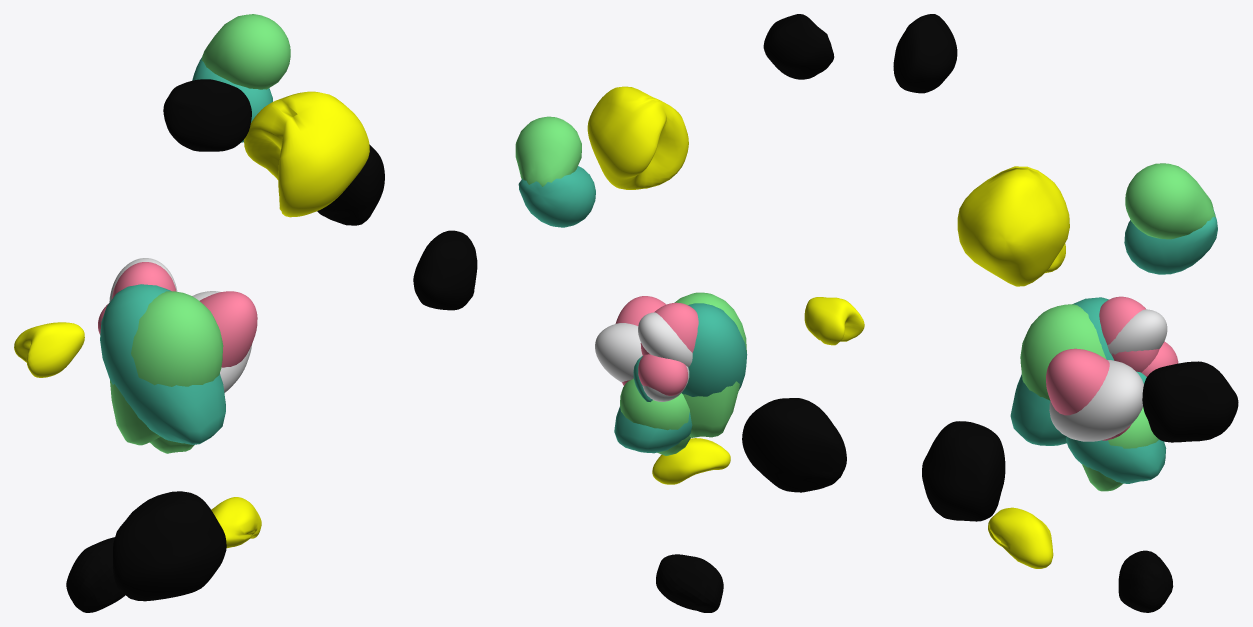
File: asset.glb
3 renders of one model, left to right at view 1: azimuth 30°, elevation 25°; view 2: azimuth 150°, elevation 25°; view 3: azimuth 270°, elevation 25°, orthographic. The views are drawn at different scales.
Parts seen in each view (by area): view 1: Sphere.011, Sphere.013, Sphere.007, Sphere.008, Sphere.016, Sphere.010, Sphere.015, Sphere.012, Sphere.004, Sphere.014, Sphere.002, Sphere.020 (+2 smaller); view 2: Sphere.011, Sphere.013, Sphere.007, Sphere.014, Sphere.010, Sphere.016, Sphere.009, Sphere.015, Sphere.008, Sphere.006, Sphere.002, Sphere.012 (+6 smaller); view 3: Sphere.011, Sphere.013, Sphere.014, Sphere.010, Sphere.003, Sphere.008, Sphere.016, Sphere.004, Sphere.009, Sphere.005, Sphere.007, Sphere.002 (+5 smaller).
Part boxes in pixels (<box>): Sphere.011: <box>244,91,369,217</box>; Sphere.013: <box>113,491,226,601</box>; Sphere.007: <box>100,284,225,444</box>; Sphere.008: <box>110,291,223,445</box>; Sphere.016: <box>163,79,251,151</box>; Sphere.010: <box>201,14,290,89</box>; Sphere.015: <box>66,537,125,612</box>; Sphere.012: <box>14,322,84,377</box>; Sphere.004: <box>199,291,257,367</box>; Sphere.014: <box>317,144,384,225</box>; Sphere.002: <box>211,497,261,548</box>; Sphere.020: <box>112,262,176,298</box>; Sphere.011: <box>587,86,688,189</box>; Sphere.013: <box>742,398,846,492</box>; Sphere.007: <box>682,303,747,396</box>; Sphere.014: <box>413,230,477,310</box>; Sphere.010: <box>515,116,581,186</box>; Sphere.016: <box>763,14,834,79</box>; Sphere.009: <box>518,166,595,227</box>; Sphere.015: <box>656,554,723,612</box>; Sphere.008: <box>674,292,746,437</box>; Sphere.006: <box>620,378,690,455</box>; Sphere.002: <box>652,438,730,484</box>; Sphere.012: <box>804,297,864,345</box>; Sphere.011: <box>957,166,1069,286</box>; Sphere.013: <box>922,421,1005,521</box>; Sphere.014: <box>1142,361,1238,442</box>; Sphere.010: <box>1125,163,1215,239</box>; Sphere.003: <box>1049,360,1143,441</box>; Sphere.008: <box>1020,304,1106,400</box>; Sphere.016: <box>893,14,957,93</box>; Sphere.004: <box>1046,348,1131,440</box>; Sphere.009: <box>1124,208,1217,274</box>; Sphere.005: <box>1066,436,1166,483</box>; Sphere.007: <box>1010,297,1113,445</box>; Sphere.002: <box>988,507,1053,568</box>.
Bounding box in the file's own units: 98.36 × 133 × 70.92.
